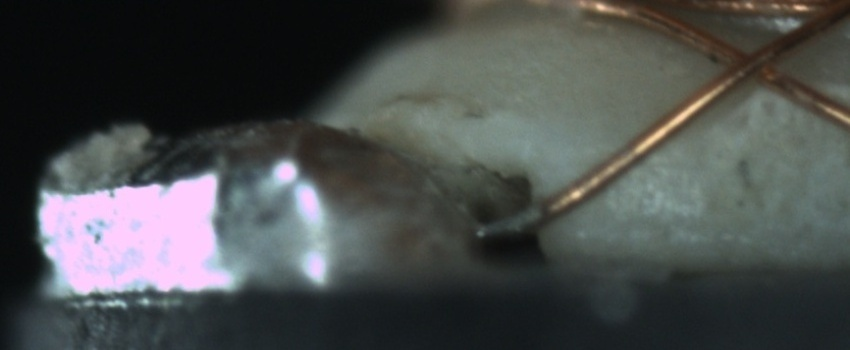CL: (701, 33, 796, 94)
TS: (480, 202, 549, 236)
